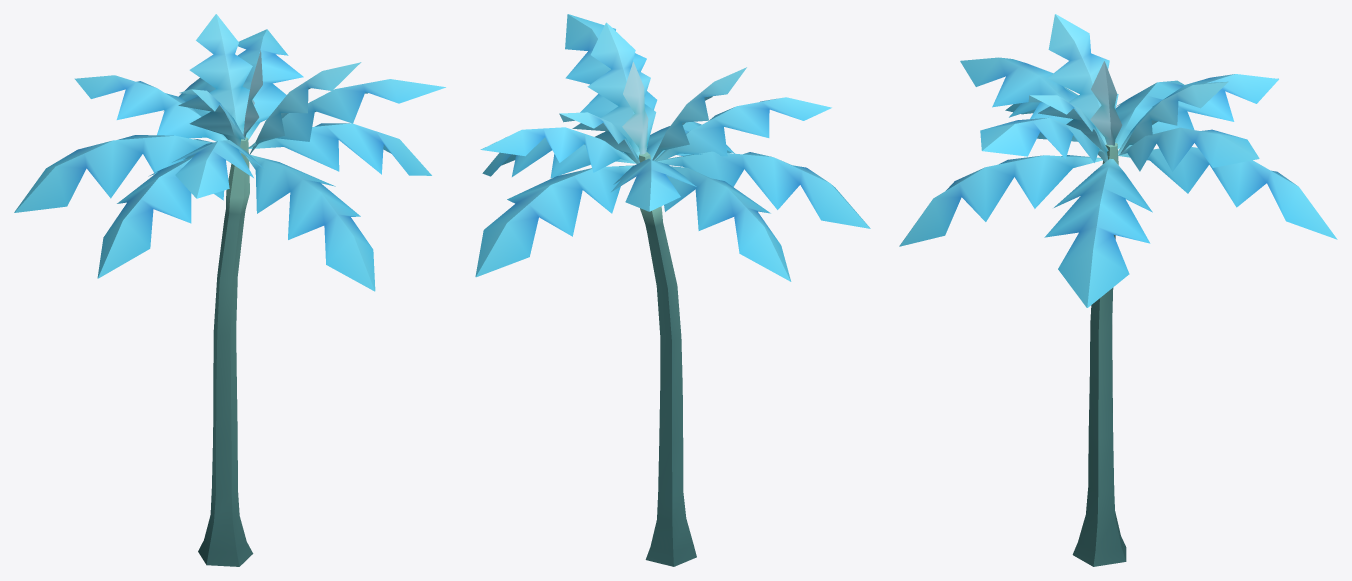
The model's file is alien_tree_lod2.glb.
The picture shows the model from 3 angles, left to right: view 1: azimuth 30°, elevation 25°; view 2: azimuth 150°, elevation 25°; view 3: azimuth 270°, elevation 25°; orthographic projection. The views are drawn at different scales.
Visible parts, largest first — view 1: AlienTree; view 2: AlienTree; view 3: AlienTree.
Part boxes in pixels (x1,y1,x2,y2): AlienTree: (14,14,445,566); AlienTree: (475,14,870,566); AlienTree: (899,14,1337,566).
Bounding box in the file's own units: 3.63 × 4.7 × 3.64.
